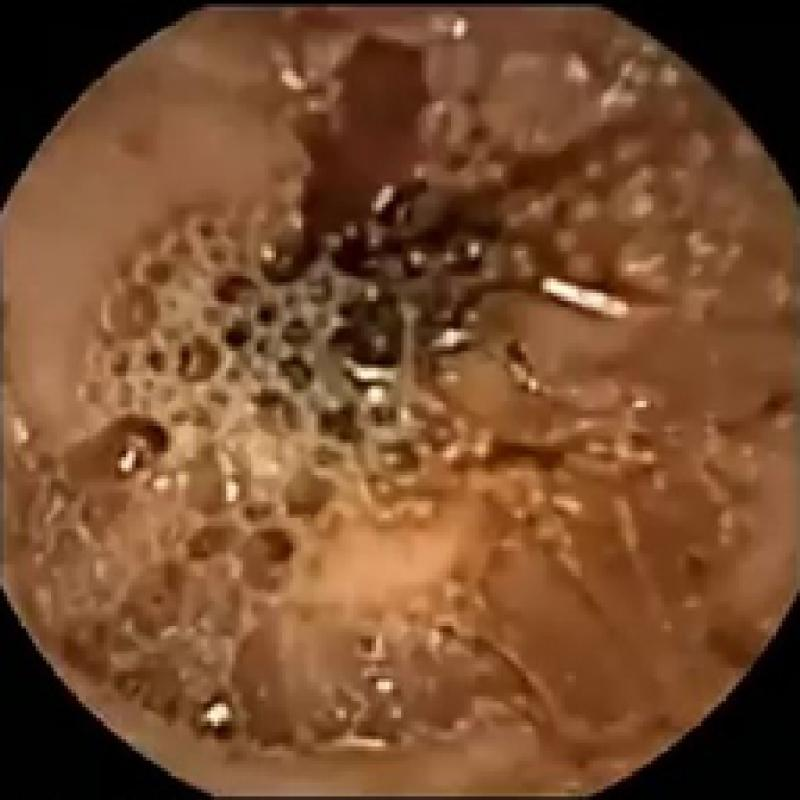bleeding: (168, 179, 525, 425)
